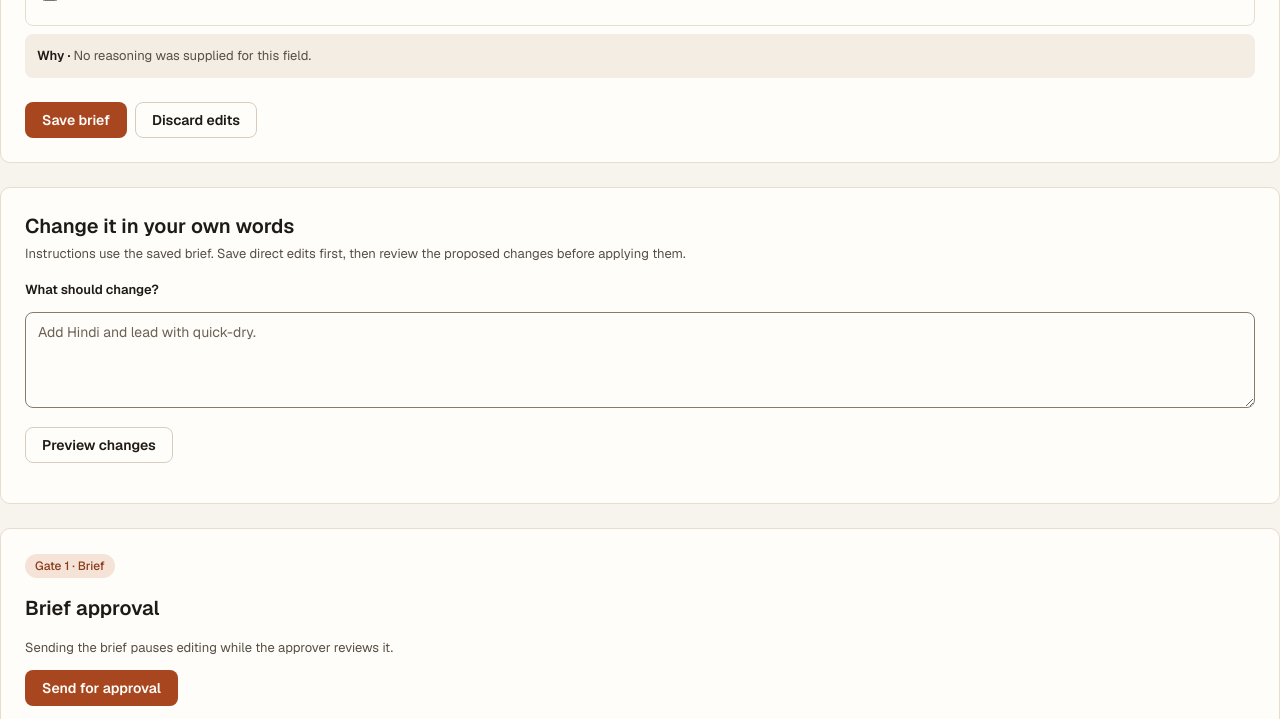
unsent and rejected brief instructions protect their text from chat Apply
(page scrolled)
Type "Preserve this Hindi instruction" into the text box labelled "What should change?" at (640, 360), box left=25, top=312, right=1255, bottom=408
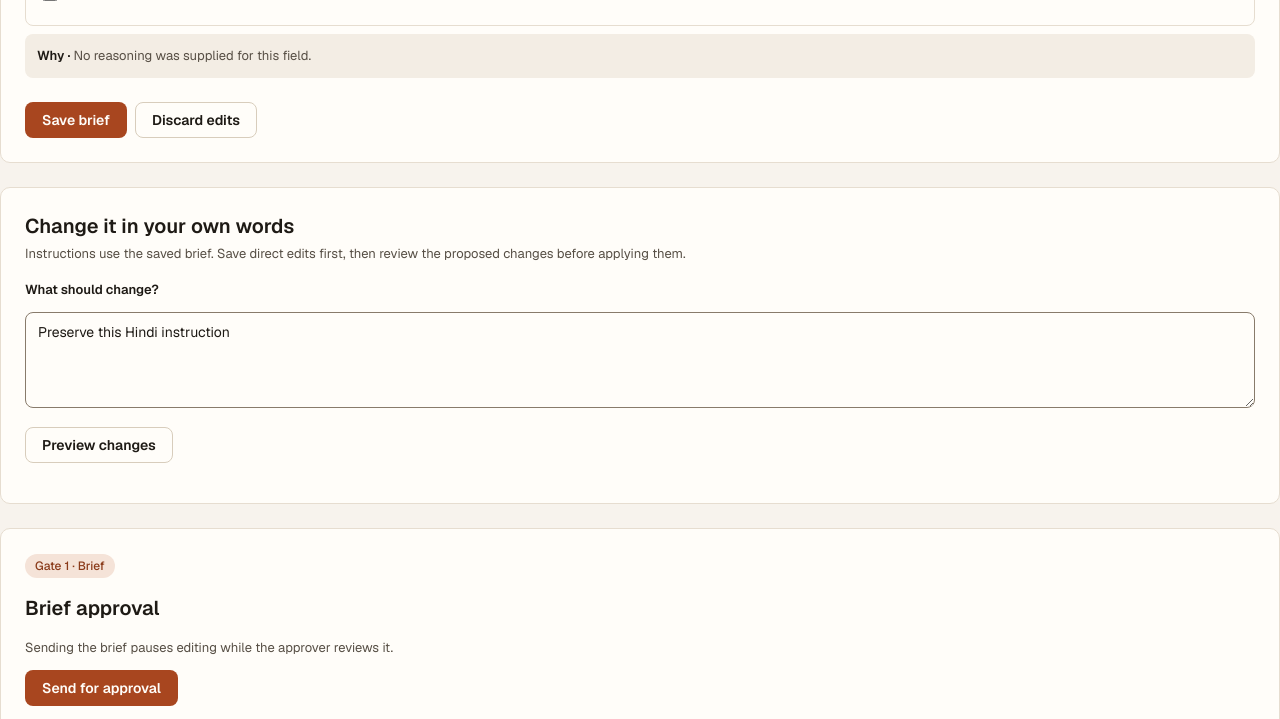
Click the button "Preview changes" at (99, 445), box left=25, top=427, right=173, bottom=463
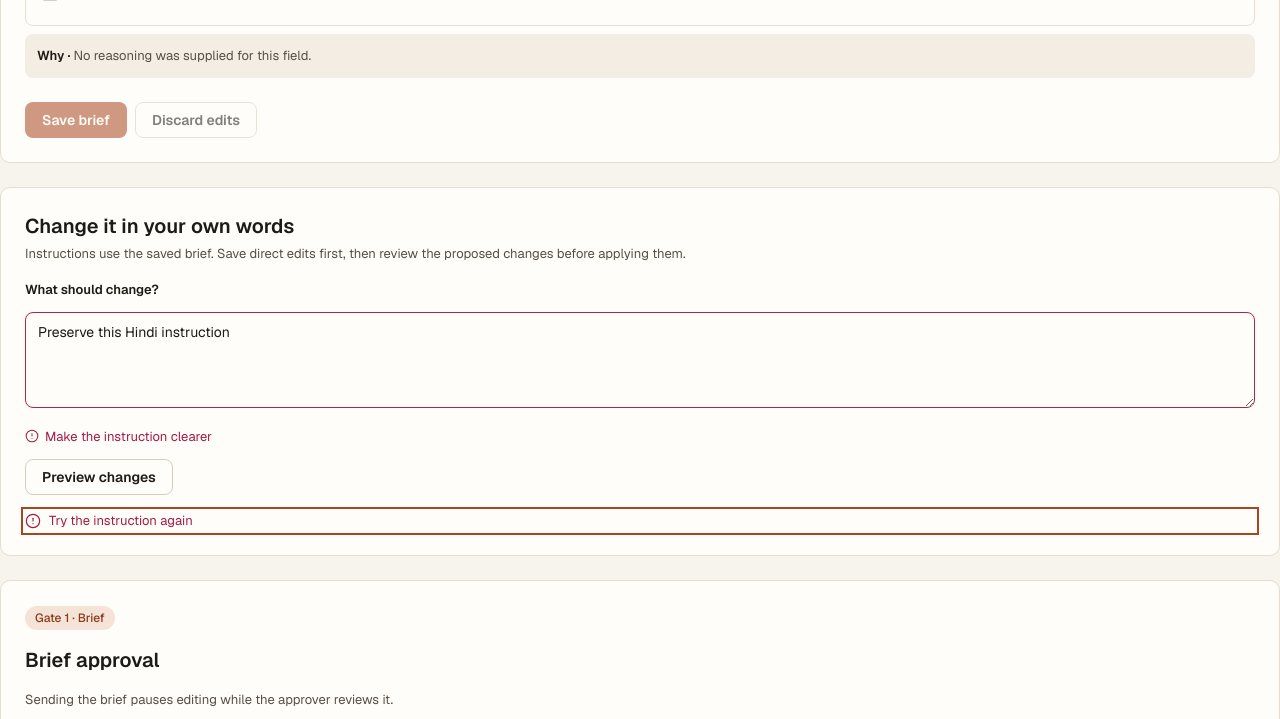
Expected: the text "Try the instruction again" is shown, left=49, top=511, right=193, bottom=531
Clear the text box labelled "What should change?" at (640, 360), box left=25, top=312, right=1255, bottom=408
(page scrolled)
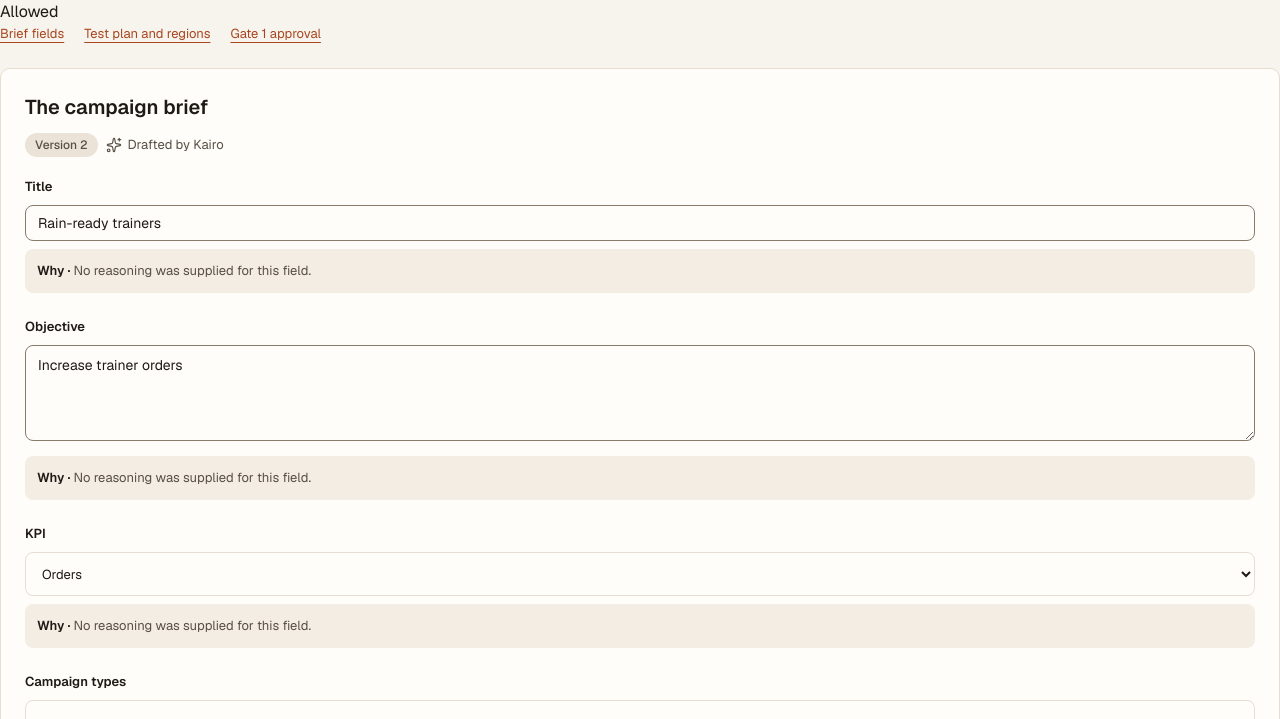
Expected: the text named "Chat Apply guard" reads "Allowed", left=0, top=1, right=58, bottom=22
